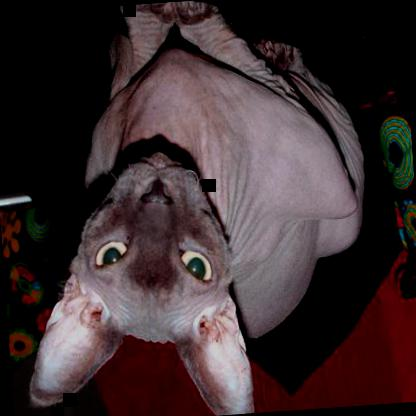cat: (1, 0, 383, 415)
